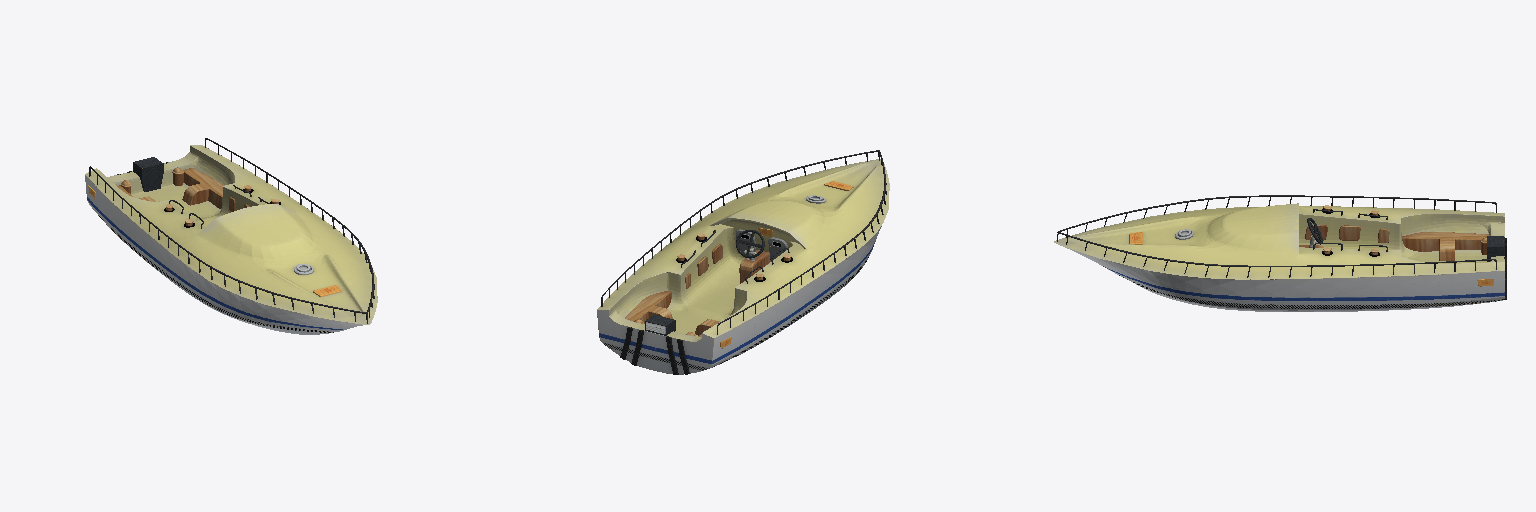
The picture shows the model from 3 angles: view 1: azimuth 30°, elevation 25°; view 2: azimuth 150°, elevation 25°; view 3: azimuth 270°, elevation 25°; orthographic projection.
Visible parts, largest first — view 1: polySurface4; view 2: polySurface4; view 3: polySurface4.
Part boxes in pixels (bbox=[...]): polySurface4: bbox=[85, 138, 377, 334]; polySurface4: bbox=[597, 150, 889, 374]; polySurface4: bbox=[1054, 195, 1506, 311].
Size of the model in its own units: 2.29 by 1.21 by 6.04.
1 materials, 1 textured.